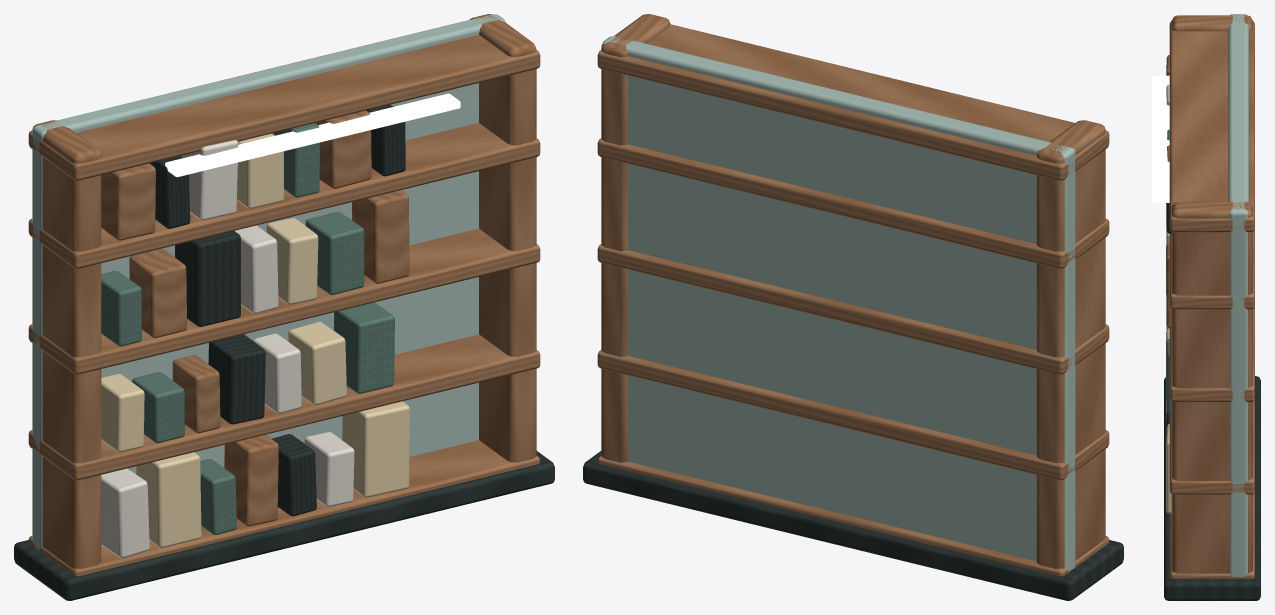
Rendered from study-shelf.glb.
3 views of the same model, side by side, from view 1: azimuth 30°, elevation 25°; view 2: azimuth 150°, elevation 25°; view 3: azimuth 270°, elevation 25° (orthographic). The views are drawn at different scales.
Parts seen in each view (by area): view 1: Shelf_Back, Shelf_Side_-1.6800000000000002, Shelf_Board_5, Shelf_Side_1.6800000000000002, Shelf_Base, Shelf_Board_2, Shelf_Board_4, Shelf_Board_3, Shelf_Board_1, Shelf_Book_0_6, Shelf_Top_Light, Shelf_Book_2_2 (+26 smaller); view 2: Shelf_Back, Shelf_Side_-1.6800000000000002, Shelf_Board_5, Shelf_Base, Shelf_Side_1.6800000000000002, Shelf_Board_4, Shelf_Board_2, Shelf_Board_3, Shelf_Board_1; view 3: Shelf_Side_1.6800000000000002, Shelf_Board_5, Shelf_Back, Shelf_Base, Shelf_Top_Light, Shelf_Board_2, Shelf_Board_4, Shelf_Board_3, Shelf_Side_-1.6800000000000002, Shelf_Board_1, Shelf_Book_0_6, Shelf_Book_2_6 (+1 smaller).
Boxes of the visible parts, x1=… form: Shelf_Back: x1=32, y1=14, x2=505, y2=550; Shelf_Side_-1.6800000000000002: x1=32, y1=120, x2=101, y2=568; Shelf_Board_5: x1=28, y1=34, x2=540, y2=180; Shelf_Side_1.6800000000000002: x1=469, y1=14, x2=536, y2=462; Shelf_Base: x1=14, y1=451, x2=554, y2=600; Shelf_Board_2: x1=28, y1=334, x2=540, y2=480; Shelf_Board_4: x1=28, y1=123, x2=540, y2=268; Shelf_Board_3: x1=28, y1=228, x2=540, y2=374; Shelf_Board_1: x1=28, y1=440, x2=540, y2=576; Shelf_Book_0_6: x1=342, y1=401, x2=409, y2=497; Shelf_Top_Light: x1=165, y1=93, x2=460, y2=177; Shelf_Book_2_2: x1=175, y1=231, x2=240, y2=326; Shelf_Back: x1=601, y1=36, x2=1075, y2=571; Shelf_Side_-1.6800000000000002: x1=1036, y1=120, x2=1105, y2=568; Shelf_Board_5: x1=597, y1=24, x2=1109, y2=180; Shelf_Base: x1=583, y1=451, x2=1123, y2=600; Shelf_Side_1.6800000000000002: x1=601, y1=14, x2=670, y2=462; Shelf_Board_4: x1=597, y1=138, x2=1109, y2=268; Shelf_Board_2: x1=597, y1=350, x2=1109, y2=480; Shelf_Board_3: x1=597, y1=244, x2=1109, y2=374; Shelf_Board_1: x1=597, y1=456, x2=1109, y2=576; Shelf_Side_1.6800000000000002: x1=1171, y1=201, x2=1252, y2=573; Shelf_Board_5: x1=1169, y1=20, x2=1254, y2=232; Shelf_Back: x1=1228, y1=14, x2=1248, y2=576; Shelf_Base: x1=1164, y1=376, x2=1260, y2=600; Shelf_Top_Light: x1=1152, y1=75, x2=1169, y2=202; Shelf_Board_2: x1=1169, y1=399, x2=1254, y2=494; Shelf_Board_4: x1=1169, y1=229, x2=1254, y2=309; Shelf_Board_3: x1=1169, y1=306, x2=1254, y2=401; Shelf_Side_-1.6800000000000002: x1=1171, y1=15, x2=1252, y2=31; Shelf_Board_1: x1=1169, y1=492, x2=1254, y2=578; Shelf_Book_0_6: x1=1166, y1=424, x2=1171, y2=513; Shelf_Book_2_6: x1=1166, y1=243, x2=1171, y2=327.
Bounding box in the file's own units: 3.78 × 3.25 × 0.83.
Materials: 8 (5 with a texture image).
